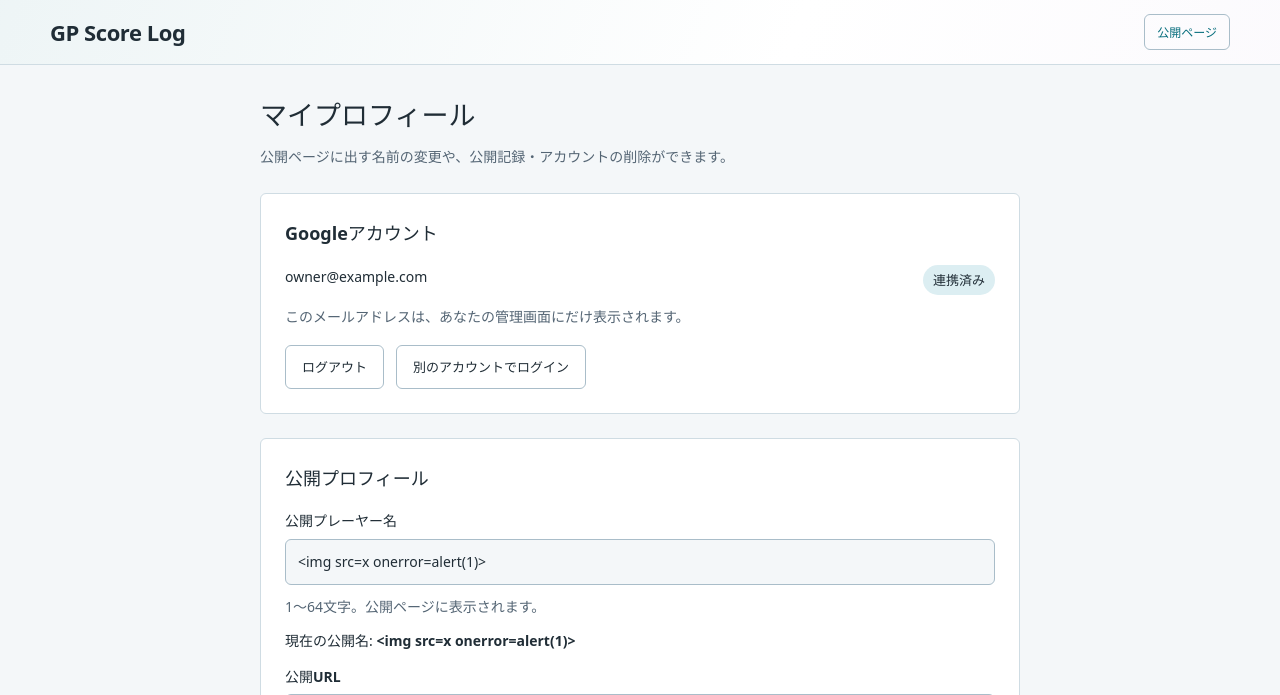
Test: Web management › clears editing on session expiry and safely displays HTML-like names
The width and height of the screenshot is (1280, 695).
Replace the text in the field labelled "公開プレーヤー名" with "変更" at (640, 562), box 285,539 -> 995,585
(page scrolled)
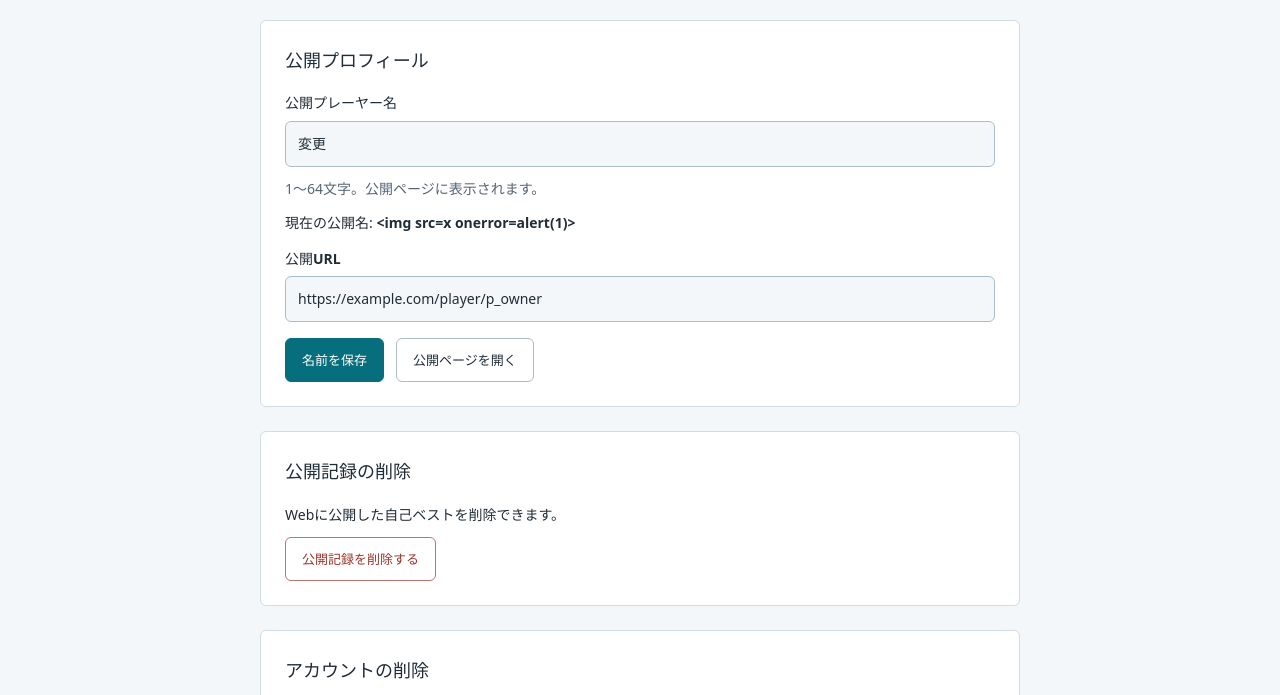
Click the button "名前を保存" at (334, 360), box 285,338 -> 384,382
(page scrolled)
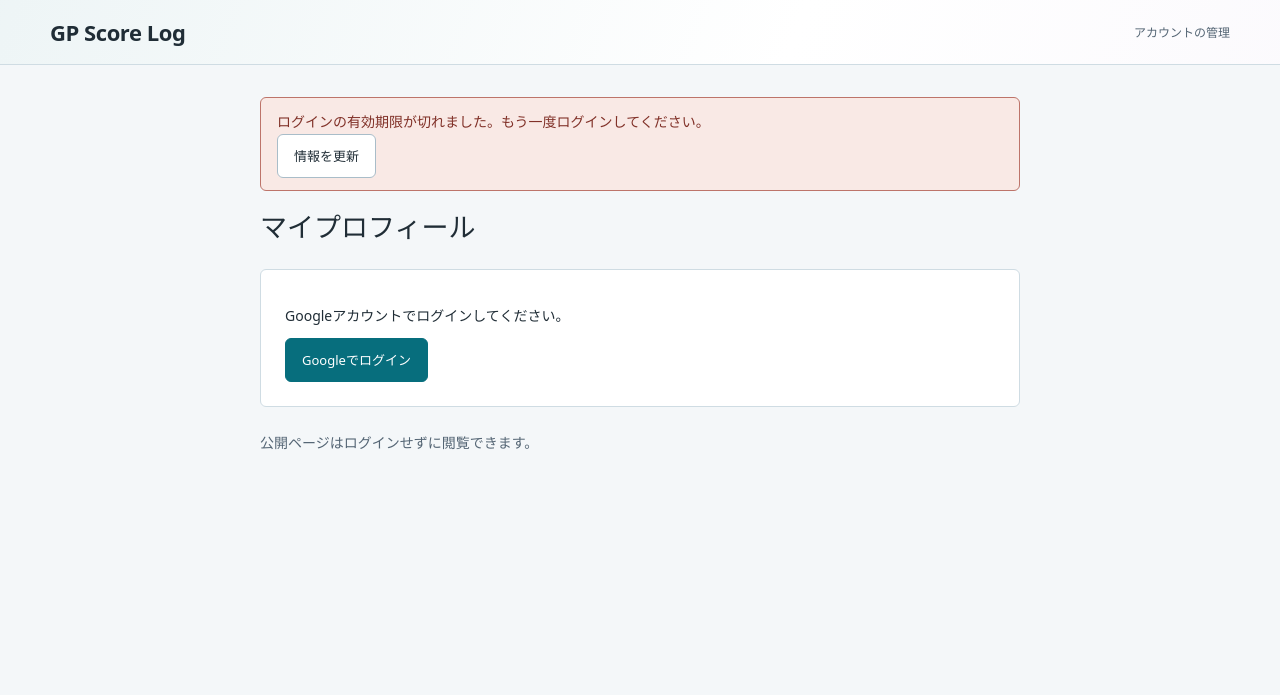
Now the link "Googleでログイン" is shown, box 285,338 -> 428,382
Now the label "公開プレーヤー名" is gone
